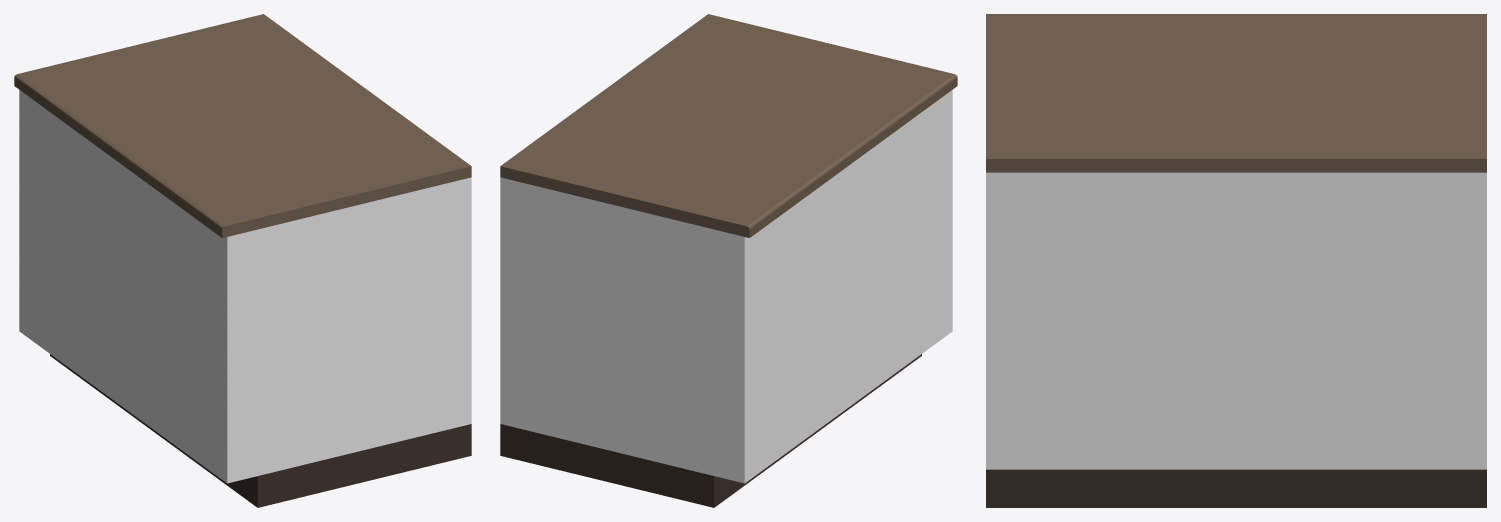
File: Aanrecht.fbx
The picture shows the model from 3 angles, left to right: view 1: azimuth 30°, elevation 25°; view 2: azimuth 150°, elevation 25°; view 3: azimuth 270°, elevation 25°; orthographic projection. The views are drawn at different scales.
Parts seen in each view (by area): view 1: Cube; view 2: Cube; view 3: Cube.
Boxes of the visible parts, box(x1,y1,x2,y2) form: Cube: box(14, 14, 471, 507); Cube: box(500, 14, 957, 507); Cube: box(986, 14, 1486, 507).
Size of the model in its own units: 212 by 235 by 306.
